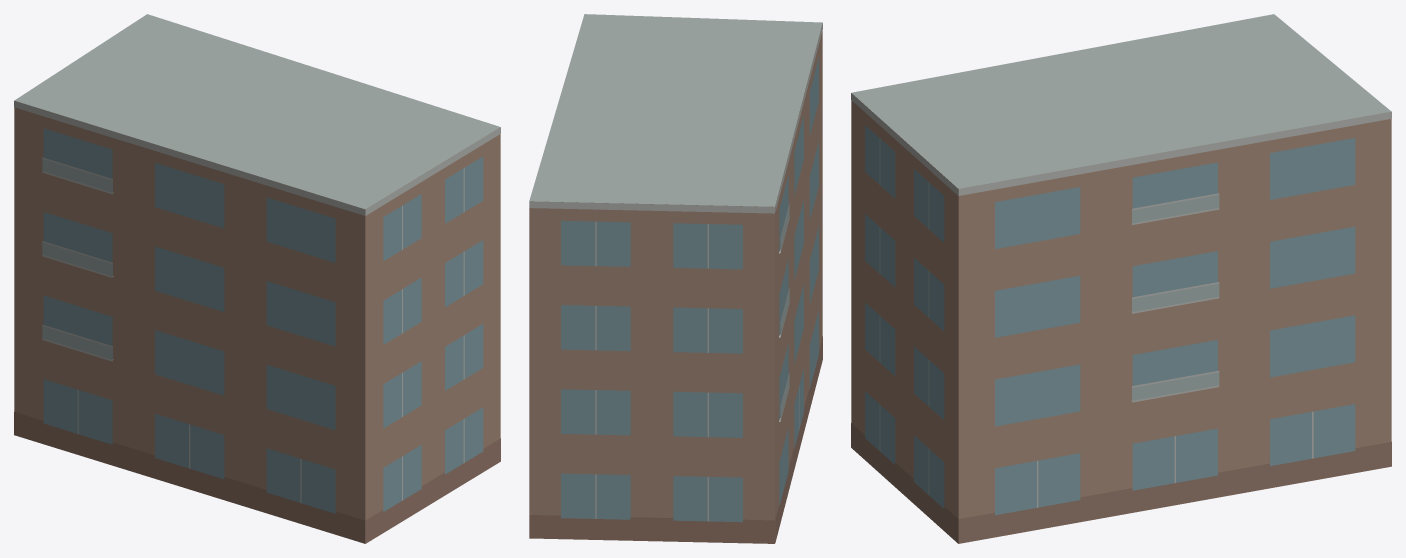
Rendered from survey-upis-32969376.glb.
The picture shows the model from 3 angles, left to right: view 1: azimuth 30°, elevation 25°; view 2: azimuth 150°, elevation 25°; view 3: azimuth 270°, elevation 25°; orthographic projection. The views are drawn at different scales.
Parts seen in each view (by area): view 1: survey-upis-32969376.tmp; view 2: survey-upis-32969376.tmp; view 3: survey-upis-32969376.tmp.
Part boxes in pixels (x1,y1,x2,y2): survey-upis-32969376.tmp: (14,14,500,543); survey-upis-32969376.tmp: (529,14,822,543); survey-upis-32969376.tmp: (851,14,1391,543).
Bounding box in the file's own units: 12.94 × 12.23 × 16.89.
